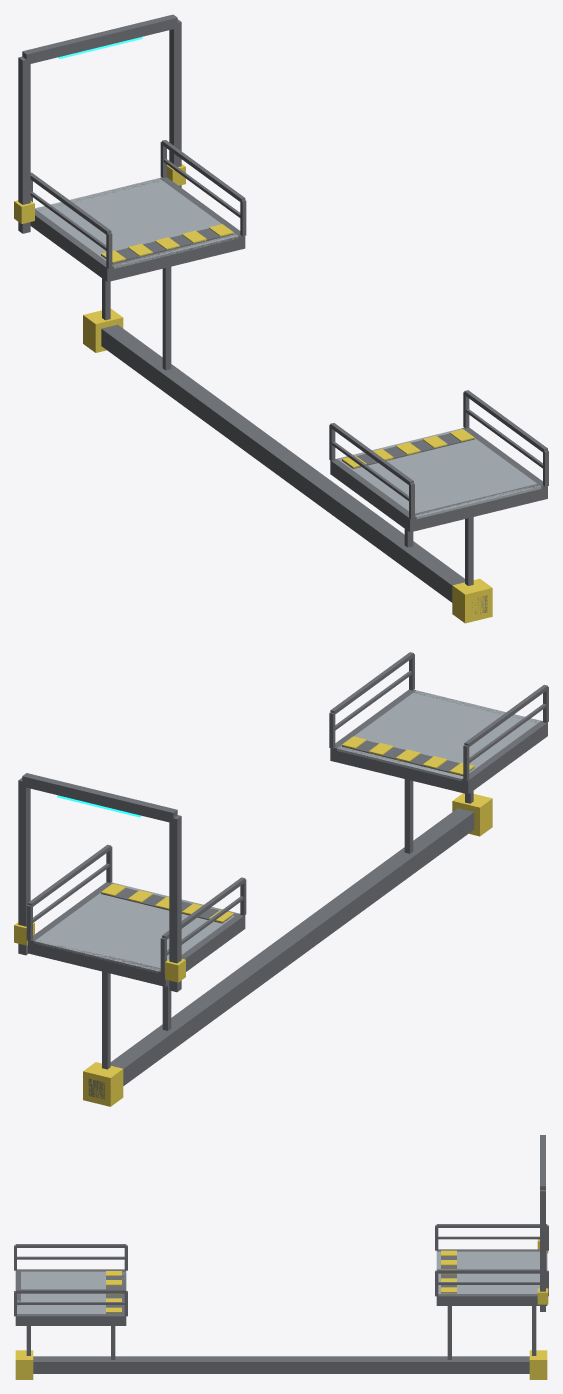
The model's file is scaffold_gap_leap.glb.
3 views of the same model, one above another, from view 1: azimuth 30°, elevation 25°; view 2: azimuth 150°, elevation 25°; view 3: azimuth 270°, elevation 25° (orthographic). The views are drawn at different scales.
Visible parts, largest first — view 1: Spine, Deck_b, Deck_a, PortalLintel, Header_a_1, PortalPost_-1, Header_b_1, PortalPost_1, Frame_b_-1, Frame_a_-1, Collar_12, Hanger_a_1 (+3 smaller); view 2: Spine, Deck_b, Deck_a, PortalLintel, Header_a_0, PortalPost_-1, PortalPost_1, Header_b_0, Frame_b_-1, Collar_0, Frame_a_-1, Collar_12 (+10 smaller); view 3: Spine, Deck_b, Deck_a, Frame_b_1, Frame_a_1, PortalPost_1, Rail_b_1, Collar_0, Collar_12, Rail_a_1, Rail_b_-1, MidRail_b_-1 (+4 smaller).
Boxes of the visible parts, <box> form: Spine: <box>101,324,487,613</box>; Deck_b: <box>338,428,541,518</box>; Deck_a: <box>35,178,238,268</box>; PortalLintel: <box>22,14,177,63</box>; Header_a_1: <box>103,232,245,281</box>; PortalPost_-1: <box>18,56,30,233</box>; Header_b_1: <box>406,482,542,530</box>; PortalPost_1: <box>169,19,181,187</box>; Frame_b_-1: <box>330,459,416,532</box>; Frame_a_-1: <box>30,209,113,281</box>; Collar_12: <box>452,578,492,623</box>; Hanger_a_1: <box>162,266,171,370</box>; Spine: <box>88,808,474,1099</box>; Deck_b: <box>337,690,540,781</box>; Deck_a: <box>34,883,238,973</box>; PortalLintel: <box>22,773,177,823</box>; Header_a_0: <box>28,940,165,986</box>; PortalPost_-1: <box>169,815,181,992</box>; PortalPost_1: <box>18,778,30,955</box>; Header_b_0: <box>335,745,471,792</box>; Frame_b_-1: <box>461,721,547,794</box>; Collar_0: <box>83,1062,123,1106</box>; Frame_a_-1: <box>159,913,245,986</box>; Collar_12: <box>452,793,492,836</box>; Spine: <box>33,1356,529,1373</box>; Deck_b: <box>17,1271,126,1313</box>; Deck_a: <box>436,1251,539,1293</box>; Frame_b_1: <box>15,1314,125,1325</box>; Frame_a_1: <box>436,1294,539,1305</box>; PortalPost_1: <box>540,1190,545,1311</box>; Rail_b_1: <box>15,1289,126,1293</box>; Collar_0: <box>529,1350,547,1379</box>; Collar_12: <box>15,1350,33,1379</box>; Rail_a_1: <box>436,1269,547,1273</box>; Rail_b_-1: <box>15,1244,126,1247</box>; MidRail_b_-1: <box>17,1256,124,1259</box>.
Size of the model in its own units: 2.98 by 5.34 by 12.07.
